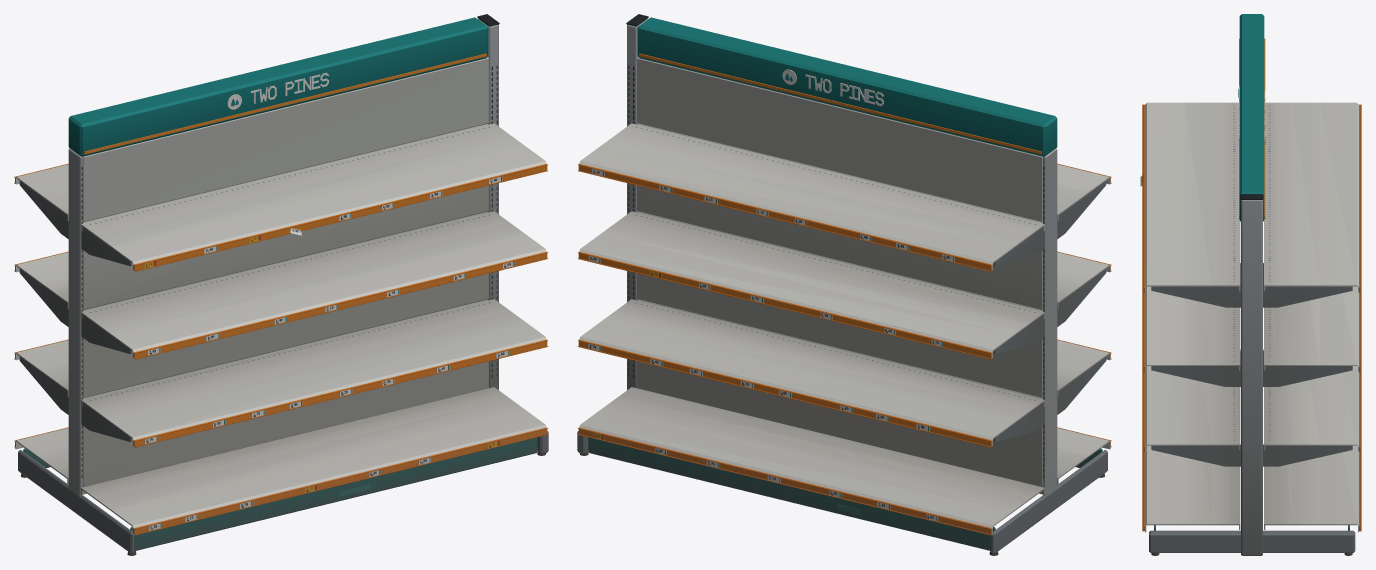
File: gs-gondola-run.glb
3 renders of one model, left to right at view 1: azimuth 30°, elevation 25°; view 2: azimuth 150°, elevation 25°; view 3: azimuth 270°, elevation 25°, orthographic. The views are drawn at different scales.
Parts seen in each view (by area): view 1: gs_gondola_run; view 2: gs_gondola_run; view 3: gs_gondola_run.
Part boxes in pixels (box(x1,y1,x2,y2)): gs_gondola_run: box(14, 14, 548, 555); gs_gondola_run: box(577, 14, 1111, 555); gs_gondola_run: box(1140, 14, 1361, 555).
Bounding box in the file's own units: 2 × 1.8 × 1.01.
